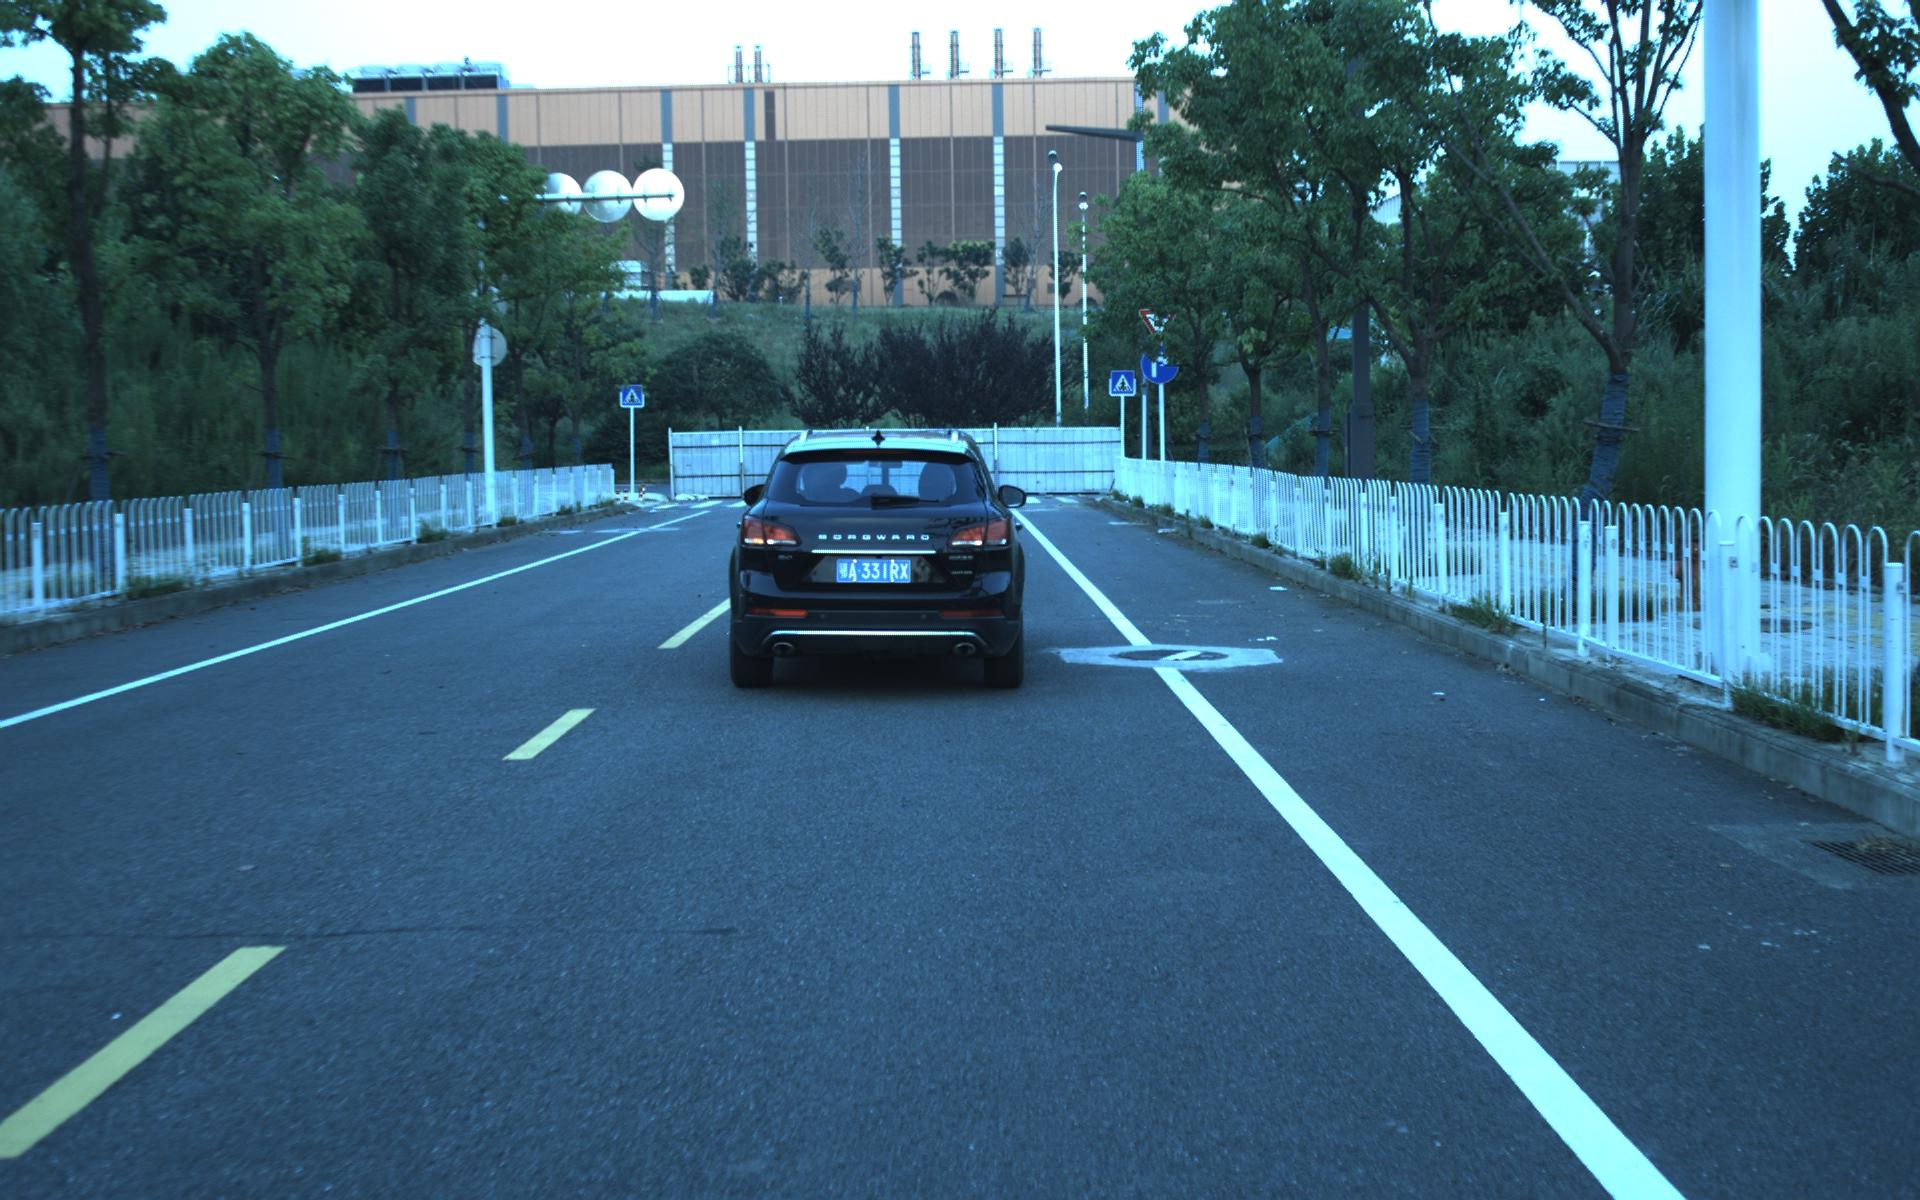Car: (726, 420, 1028, 693)
